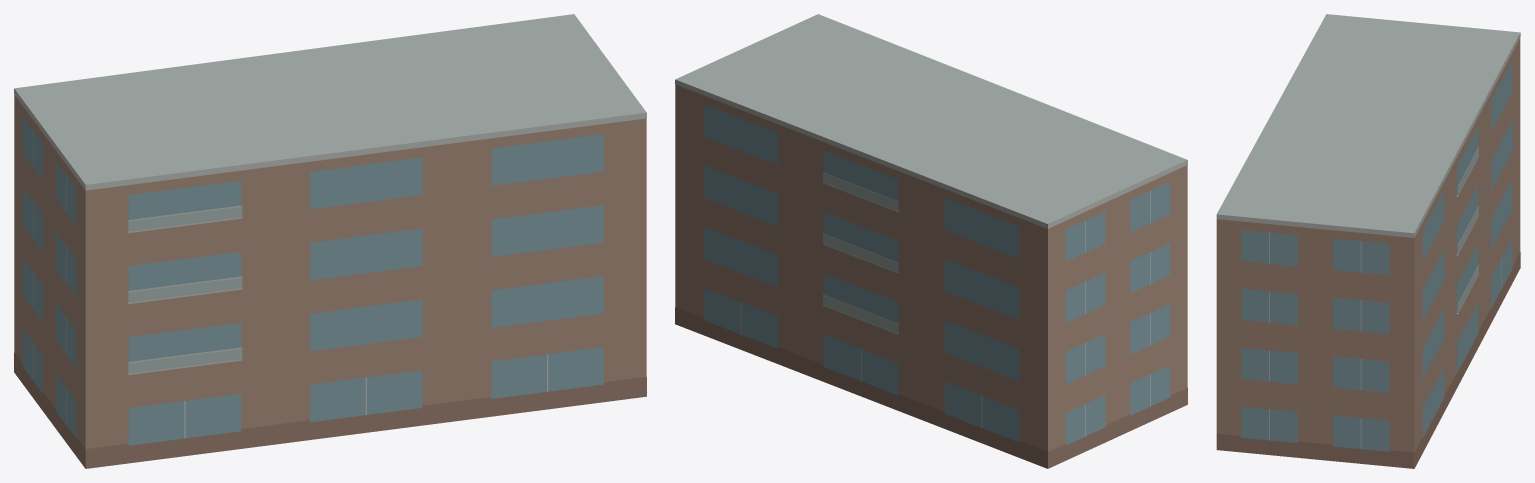
Rendered from survey-upis-32847237.glb.
3 renders of one model, left to right at view 1: azimuth 30°, elevation 25°; view 2: azimuth 150°, elevation 25°; view 3: azimuth 270°, elevation 25°, orthographic. The views are drawn at different scales.
Parts seen in each view (by area): view 1: survey-upis-32847237.tmp; view 2: survey-upis-32847237.tmp; view 3: survey-upis-32847237.tmp.
Part boxes in pixels (x1,y1,x2,y2): survey-upis-32847237.tmp: (14,14,646,468); survey-upis-32847237.tmp: (675,14,1187,468); survey-upis-32847237.tmp: (1216,14,1520,468).
Size of the model in its own units: 24.37 by 12.2 by 14.28.
